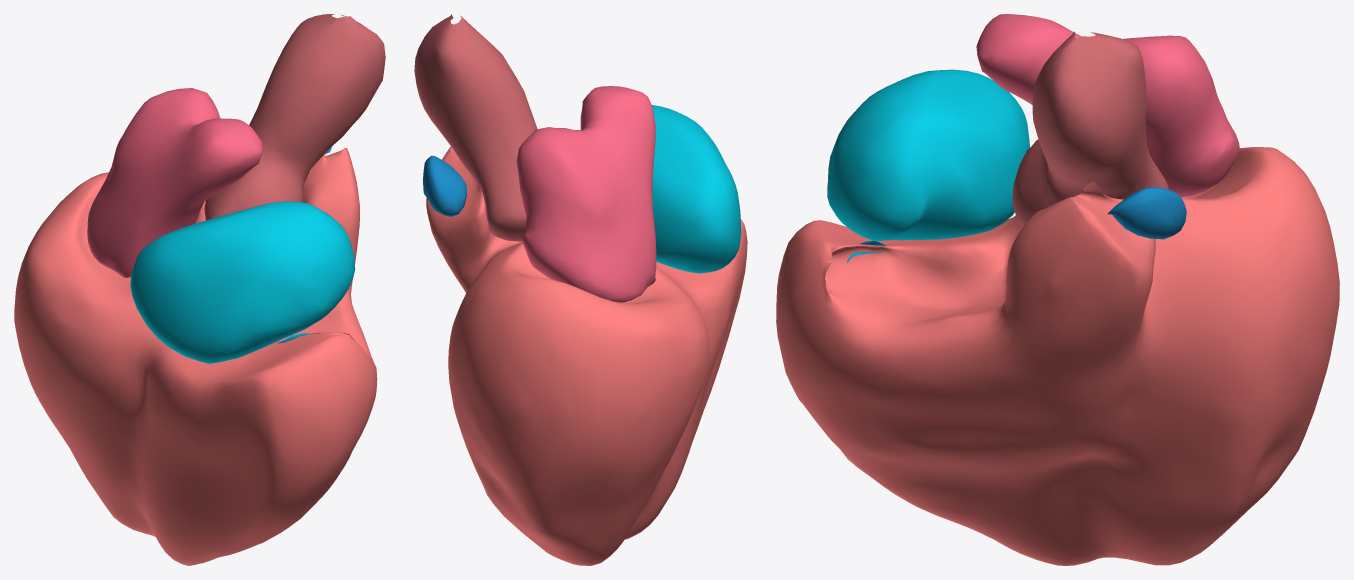
File: frame_56.glb
The picture shows the model from 3 angles, left to right: view 1: azimuth 30°, elevation 25°; view 2: azimuth 150°, elevation 25°; view 3: azimuth 270°, elevation 25°; orthographic projection. The views are drawn at different scales.
Parts seen in each view (by area): view 1: Renderer Node; view 2: Renderer Node; view 3: Renderer Node.
Part boxes in pixels (x1,y1,x2,y2): Renderer Node: (14,14,385,565); Renderer Node: (414,14,747,565); Renderer Node: (776,14,1339,565).
Size of the model in its own units: 103 by 157 by 127.
